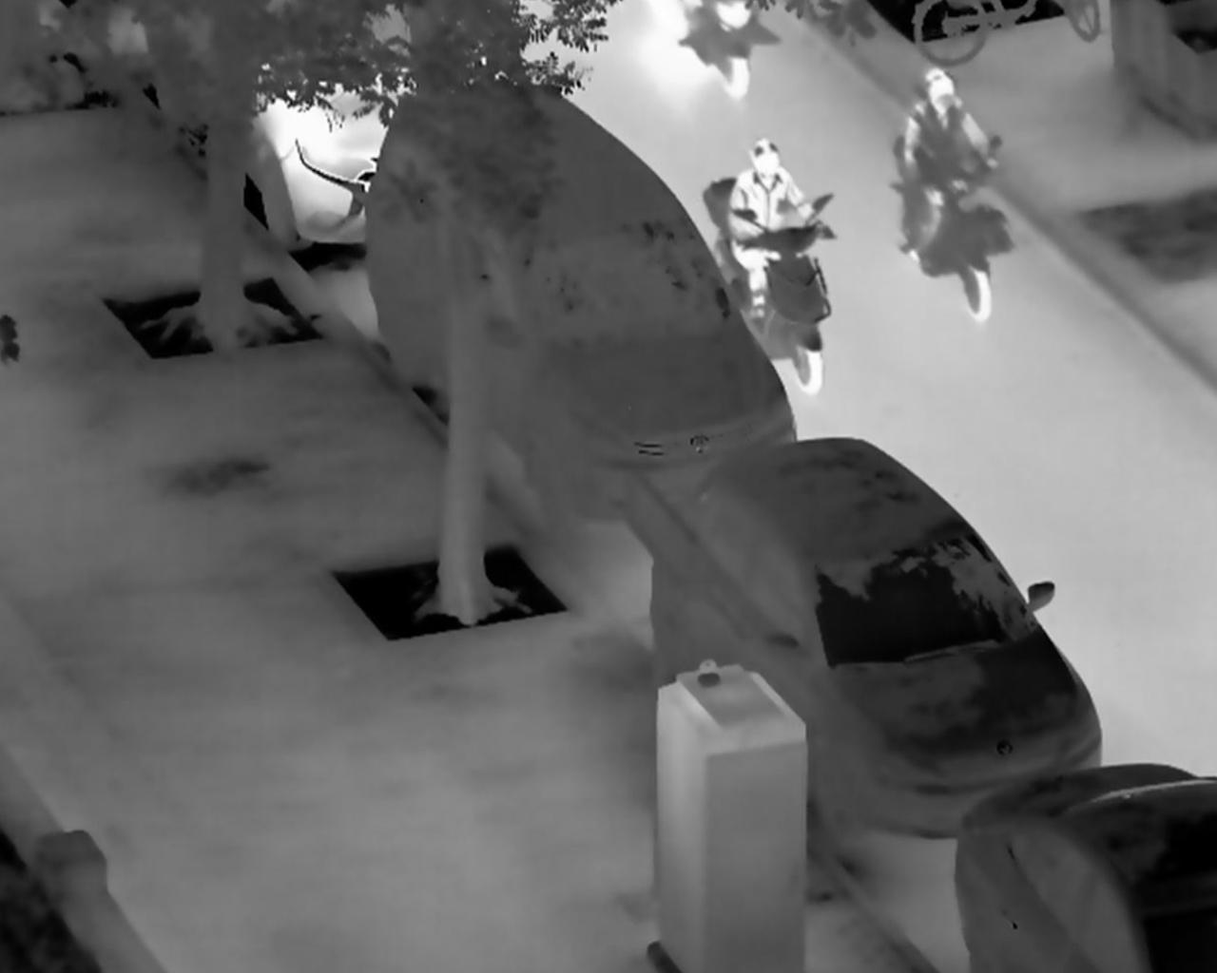person: (728, 139, 834, 323), (902, 67, 999, 262)
